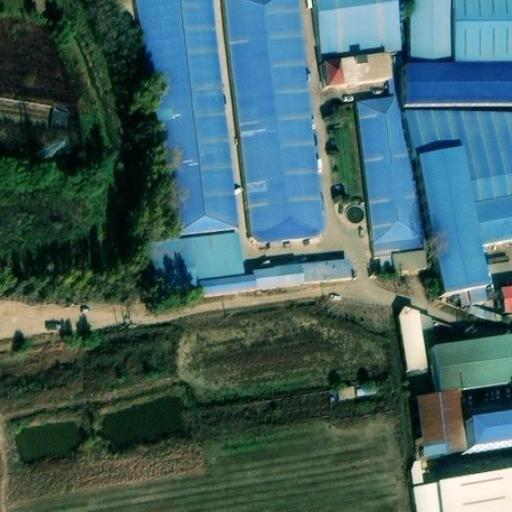building: (413, 111, 512, 246), (355, 97, 427, 256), (419, 144, 488, 291), (408, 0, 512, 62), (148, 234, 244, 284), (434, 334, 512, 394), (405, 62, 512, 102), (436, 467, 512, 512), (416, 391, 469, 454), (252, 258, 353, 288), (327, 50, 391, 84), (399, 309, 429, 375), (465, 413, 512, 448), (196, 273, 255, 295), (409, 478, 440, 512), (334, 378, 377, 401), (390, 249, 429, 272), (406, 453, 425, 484), (48, 103, 69, 129), (502, 287, 512, 313)
